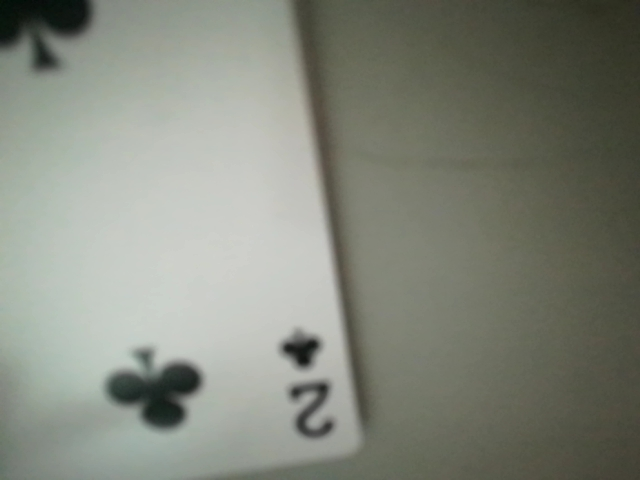mh 2: (86, 324, 327, 449), (275, 311, 346, 449)
